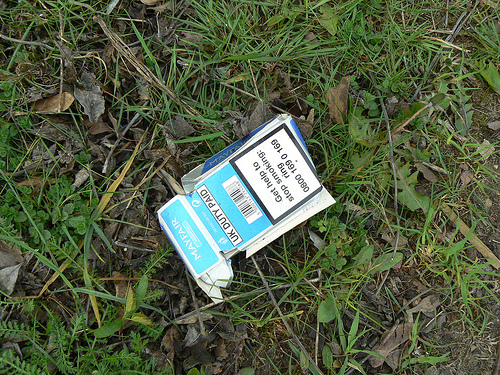litter: (158, 110, 336, 304)
